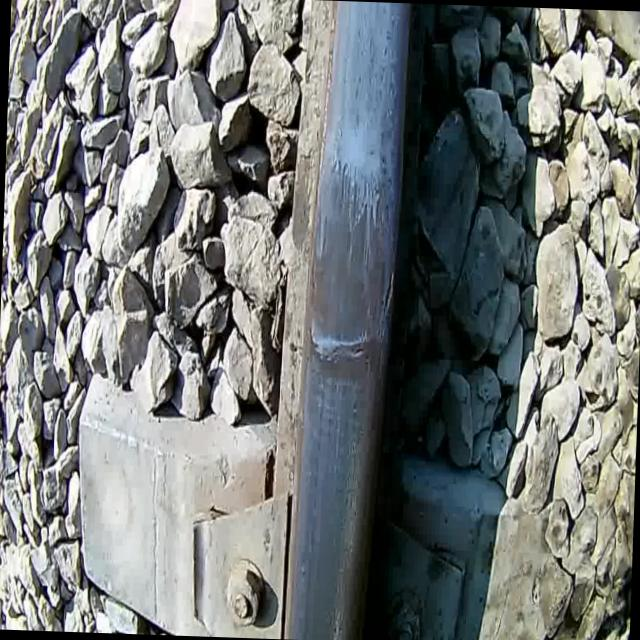Spallings: (376, 262, 399, 336)
Squats: (297, 150, 403, 399)
